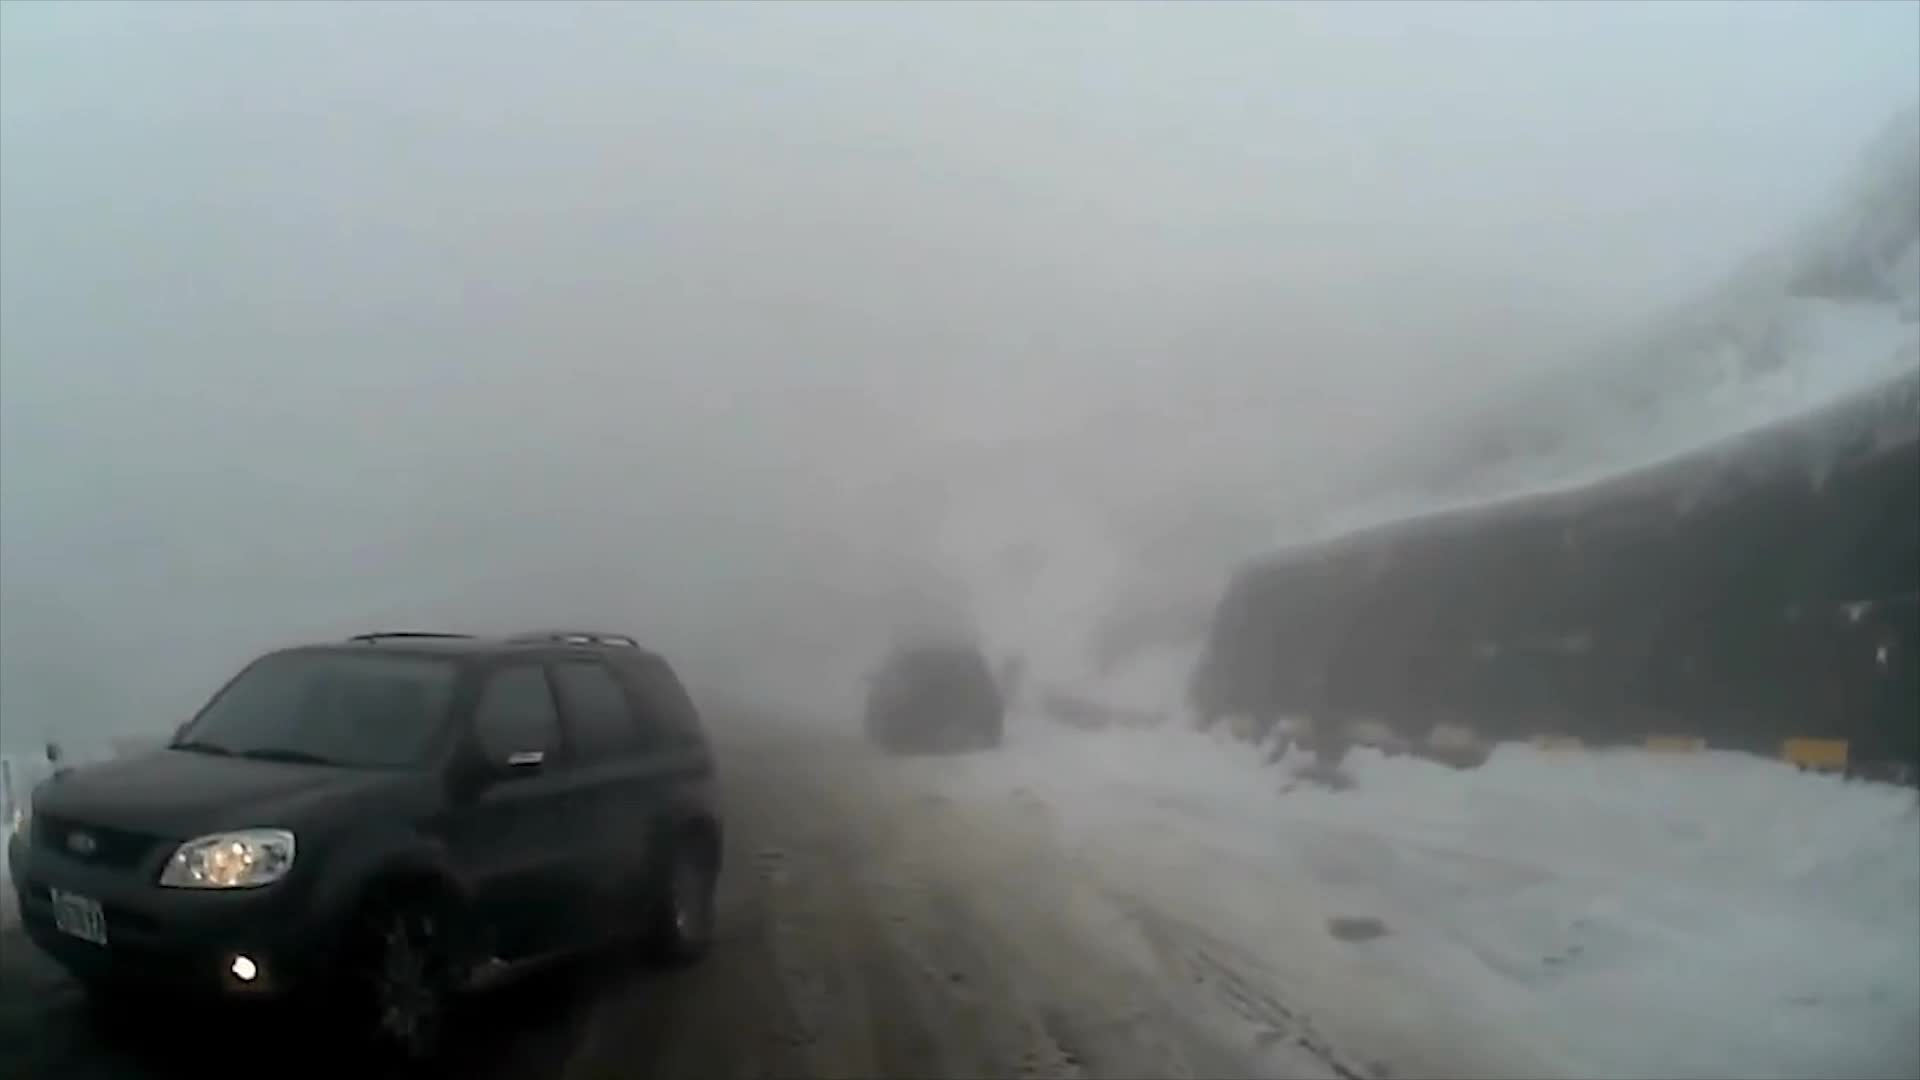vehicle: (4, 625, 723, 1064), (858, 636, 1001, 757)
